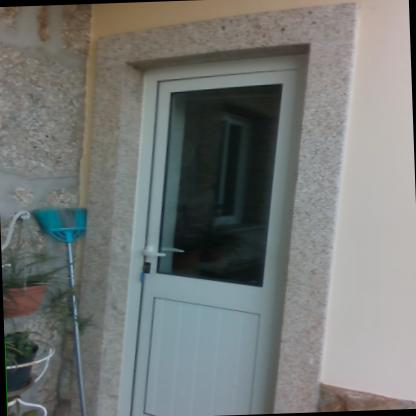closed: (96, 45, 331, 416)
